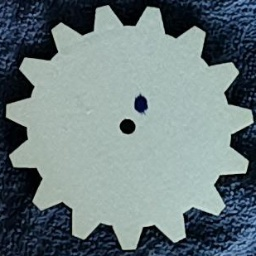Points: (133, 93, 150, 115)
